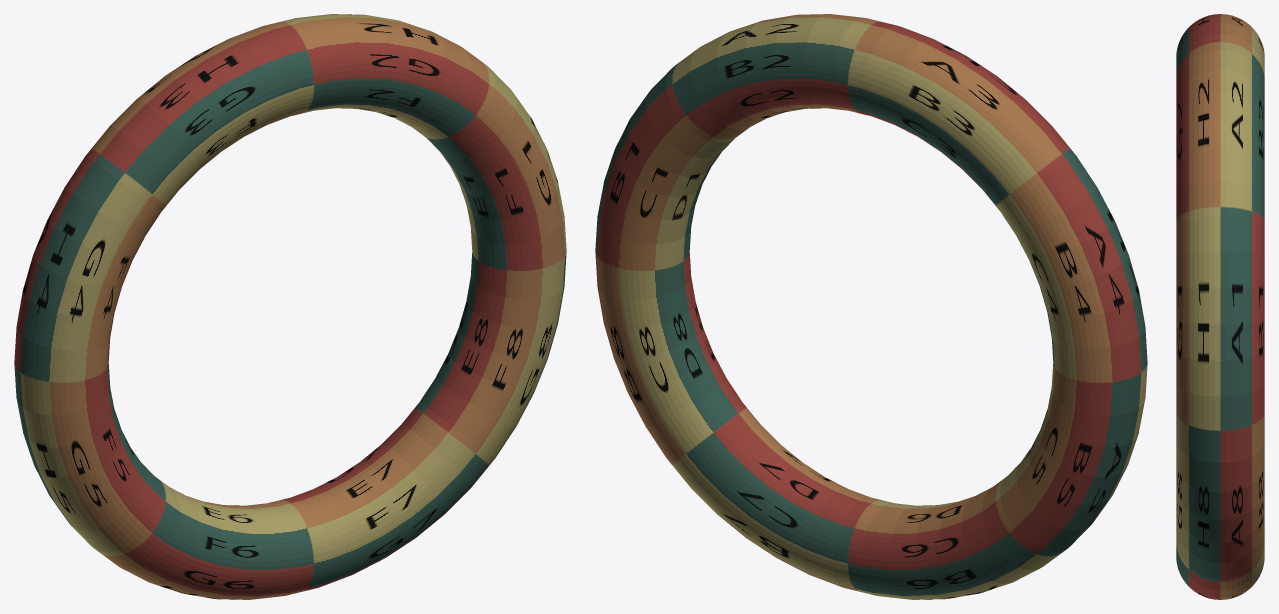
The model's file is texture_torus_R13_r5.glb.
3 views of the same model, side by side, from view 1: azimuth 30°, elevation 25°; view 2: azimuth 150°, elevation 25°; view 3: azimuth 270°, elevation 25° (orthographic). The views are drawn at different scales.
Visible parts, largest first — view 1: world; view 2: world; view 3: world.
Boxes of the visible parts, x1,y1,x2,y2 form: world: (14, 14, 566, 599); world: (595, 14, 1147, 599); world: (1176, 14, 1264, 599).
Bounding box in the file's own units: 22 × 21.96 × 3.33.
Materials: 1 (1 with a texture image).
